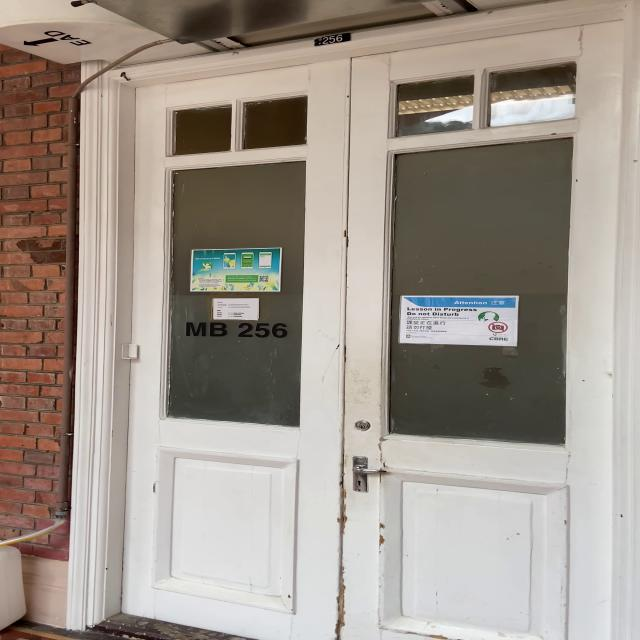room256: (310, 32, 350, 47)
room256Window: (181, 320, 288, 344)
